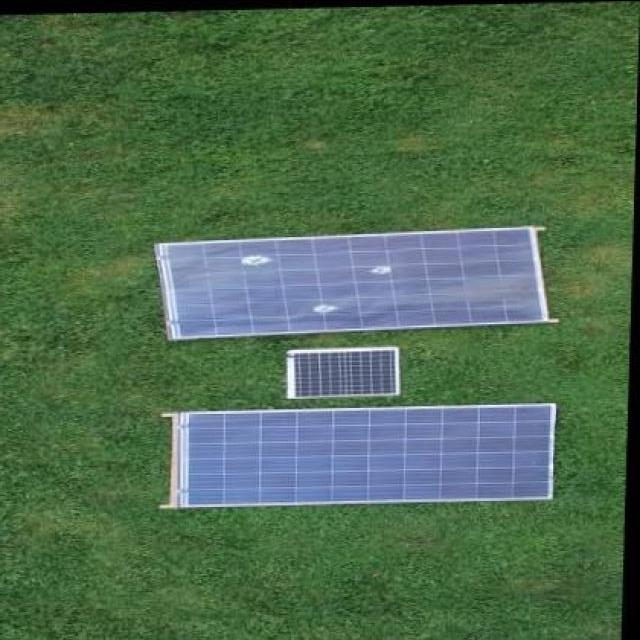soiled: (152, 219, 555, 346)
